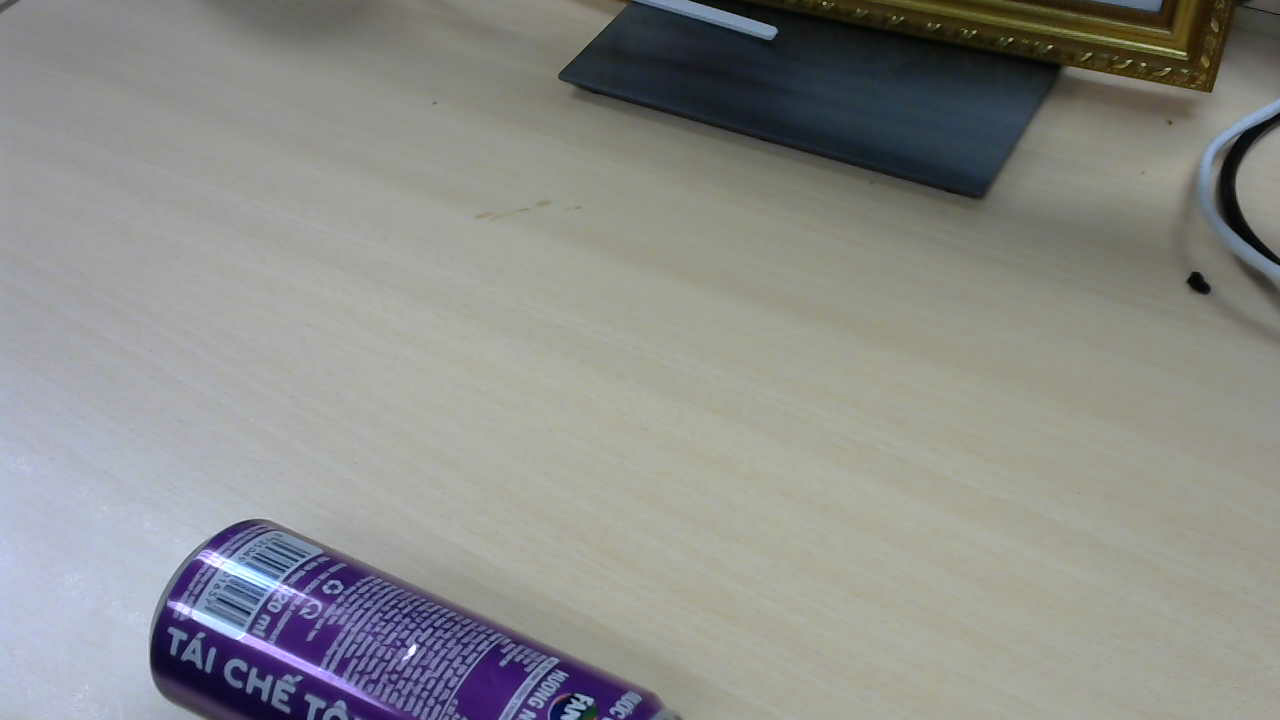Fanta: (152, 521, 658, 699)
